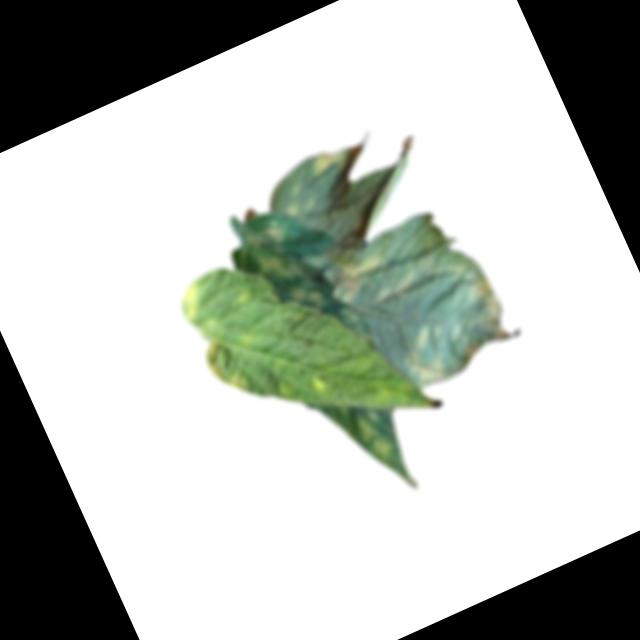Leaf_Mold: (255, 238, 330, 324), (320, 230, 394, 305), (391, 317, 459, 395), (465, 272, 526, 350), (199, 335, 254, 406), (347, 404, 396, 467), (174, 279, 217, 329), (307, 142, 351, 181)
